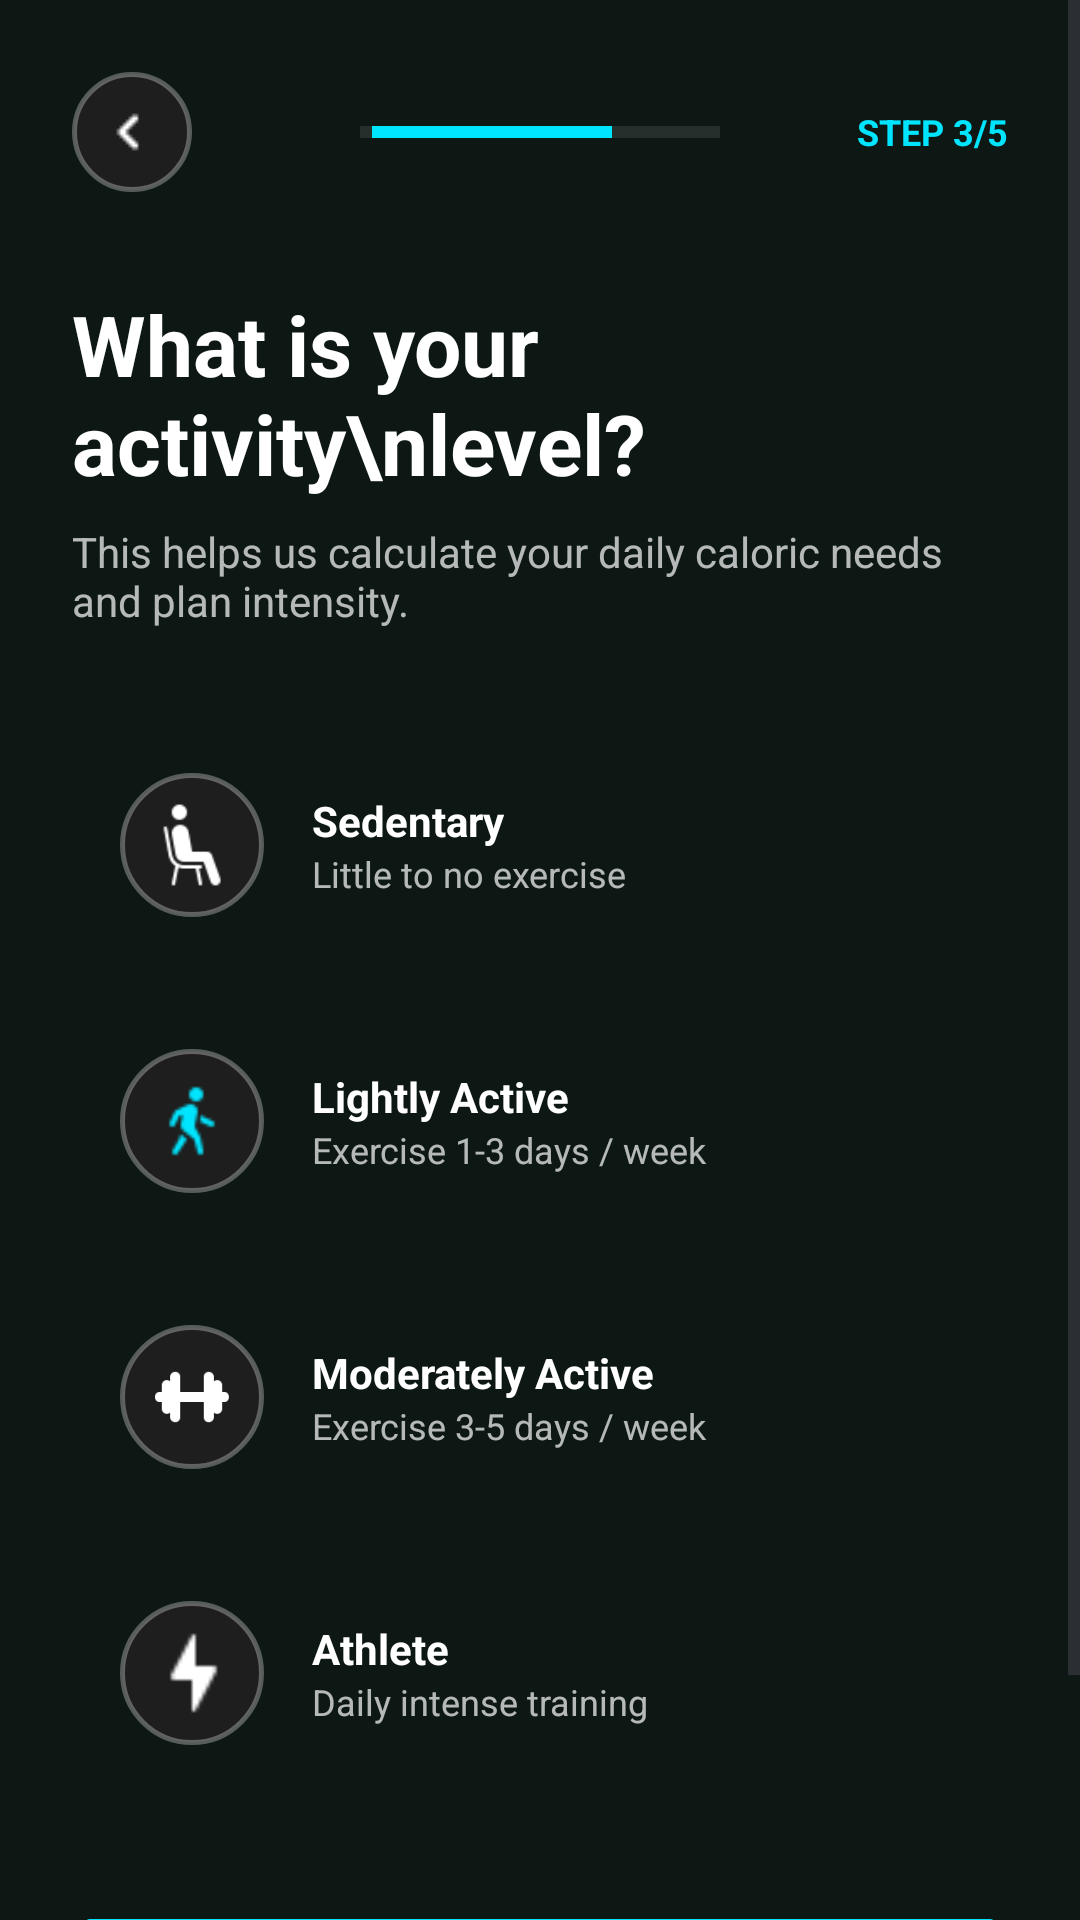

Named icons in this screenshot (1080px x 1920px) and their bounding boxes, [left=x1, top=y1, right=x2, bottom=y2]:
back: [left=72, top=72, right=192, bottom=192]
bolt: [left=120, top=1601, right=264, bottom=1745]
sit: [left=120, top=773, right=264, bottom=917]
walk: [left=120, top=1049, right=264, bottom=1193]
weight: [left=120, top=1325, right=264, bottom=1469]
